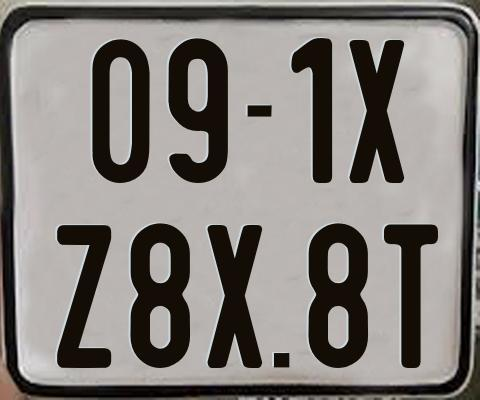0: (91, 39, 149, 186)
1: (289, 38, 333, 184)
8: (305, 220, 371, 371), (128, 223, 188, 368)
9: (167, 36, 232, 181)
T: (384, 223, 444, 372)
X: (349, 37, 407, 181), (205, 225, 261, 368)
Z: (57, 223, 112, 367)
